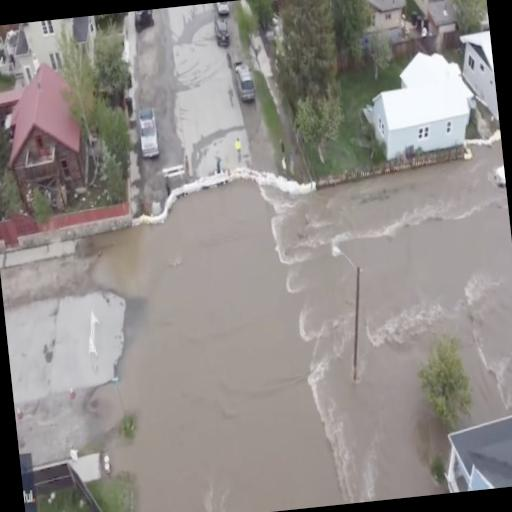flood: (0, 138, 512, 512)
house: (352, 44, 484, 168), (0, 54, 101, 211), (437, 404, 512, 493), (457, 19, 500, 133), (12, 17, 82, 57), (353, 0, 409, 46)
